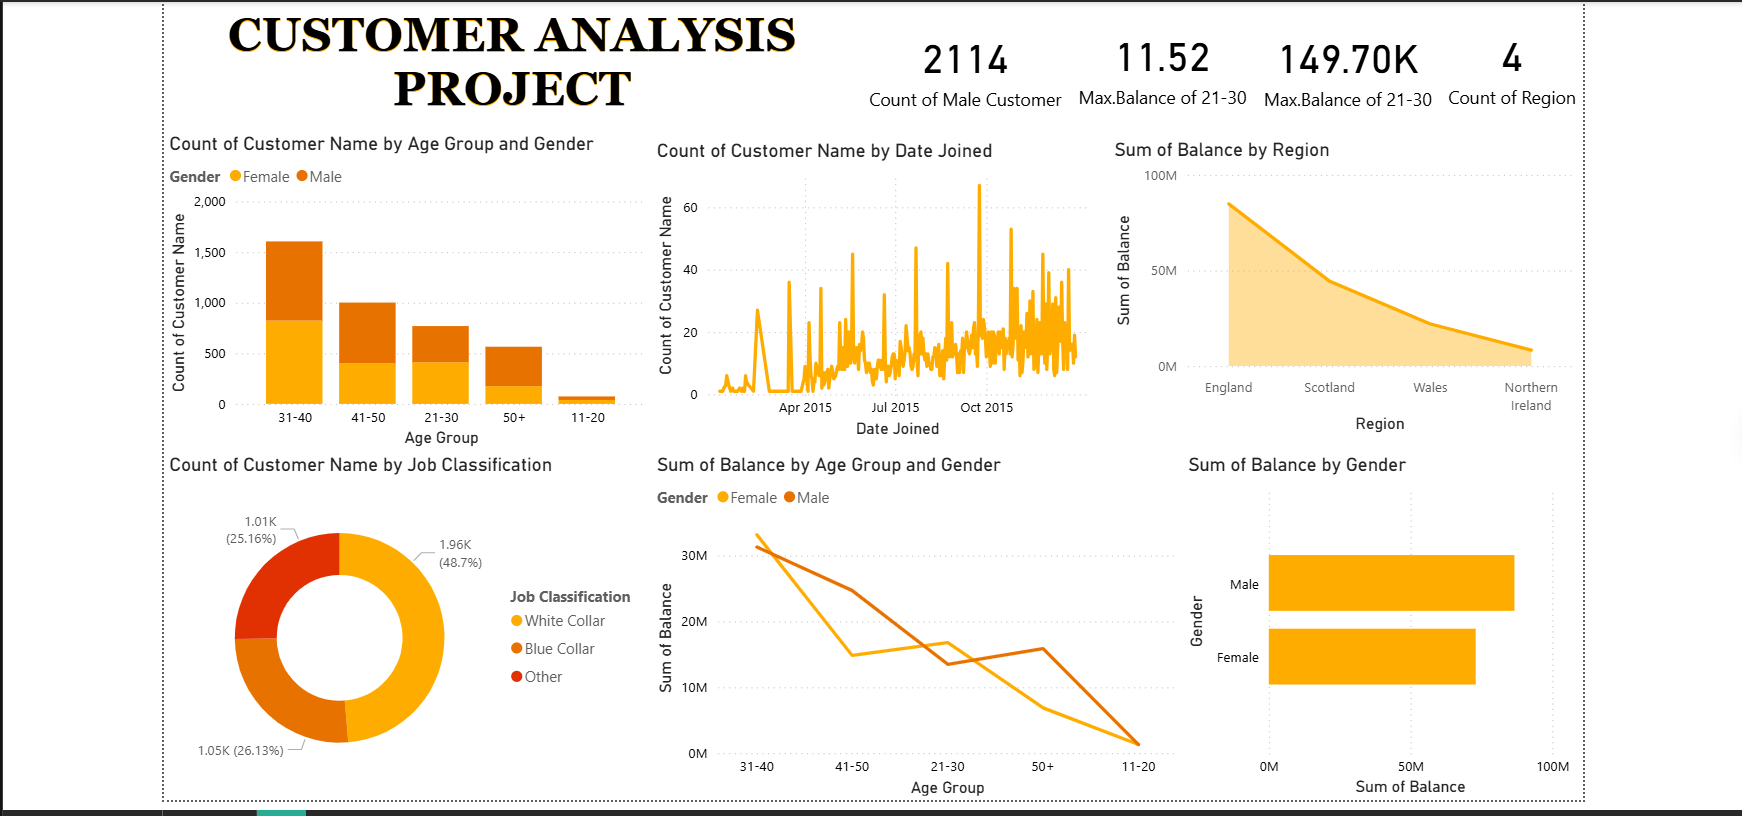

Layout of this report page (visuals, bound fields, positions):
{"tool":"powerbi","page":{"name":"Page 1","canvas":[1280,720],"ordinal":0},"visuals":[{"type":"lineChart","fields":{"Series":["P6-UK-Bank-Customers.Gender"],"Y":["Sum(P6-UK-Bank-Customers.Balance)"],"Category":["P6-UK-Bank-Customers.Age Group"]},"box":[440.1,406.5,478.7,314.1],"z":0},{"type":"columnChart","fields":{"Y":["CountNonNull(P6-UK-Bank-Customers.Customer Name)"],"Series":["P6-UK-Bank-Customers.Gender"],"Category":["P6-UK-Bank-Customers.Age Group"]},"box":[0,117.6,440.1,288.9],"z":1000},{"type":"card","fields":{"Values":["Count(P6-UK-Bank-Customers.Region)"]},"box":[1152.3,0,127.7,114.2],"z":2000},{"type":"donutChart","fields":{"Category":["P6-UK-Bank-Customers.Job Classification"],"Y":["CountNonNull(P6-UK-Bank-Customers.Customer Name)"]},"box":[0,406.5,440.1,314.1],"z":3000},{"type":"areaChart","fields":{"Y":["Sum(P6-UK-Bank-Customers.Balance)"],"Category":["P6-UK-Bank-Customers.Region"]},"box":[851.7,122.6,428.3,270.4],"z":4000},{"type":"barChart","fields":{"Category":["P6-UK-Bank-Customers.Gender"],"Y":["Sum(P6-UK-Bank-Customers.Balance)"]},"box":[918.8,406.5,354.4,314.1],"z":5000},{"type":"lineChart","fields":{"Y":["CountNonNull(P6-UK-Bank-Customers.Customer Name)"],"Category":["P6-UK-Bank-Customers.Date Joined"]},"box":[440.1,124.3,411.5,273.8],"z":6000},{"type":"card","fields":{"Values":["Max(P6-UK-Bank-Customers.Balance)"]},"box":[982.7,0,169.7,117.6],"z":7000},{"type":"card","fields":{"Values":["Min(P6-UK-Bank-Customers.Balance)"]},"box":[818.1,0,164.6,114.2],"z":8000},{"type":"card","fields":{"Values":["Count(P6-UK-Bank-Customers.Customer Name)"]},"box":[628.2,0,189.8,117.6],"z":9000},{"type":"textbox","box":[0,0,628.2,114.2],"z":10000},{"type":"textbox","box":[0,0,627.8,113.8],"z":11000}]}

Visuals, with their boxes on the page's 1280x720 design canvas (x1, y1, x2, y2). These are canvas units, not pixel positions in the 1742x816 screenshot, which may show the page scaled, cropped or inside an application window:
lineChart - P6-UK-Bank-Customers.Gender x Sum(P6-UK-Bank-Customers.Balance): x1=440 y1=406 x2=919 y2=721
columnChart - CountNonNull(P6-UK-Bank-Customers.Customer Name) x P6-UK-Bank-Customers.Gender: x1=0 y1=118 x2=440 y2=406
card - Count(P6-UK-Bank-Customers.Region): x1=1152 y1=0 x2=1280 y2=114
donutChart - P6-UK-Bank-Customers.Job Classification x CountNonNull(P6-UK-Bank-Customers.Customer Name): x1=0 y1=406 x2=440 y2=721
areaChart - Sum(P6-UK-Bank-Customers.Balance) x P6-UK-Bank-Customers.Region: x1=852 y1=123 x2=1280 y2=393
barChart - P6-UK-Bank-Customers.Gender x Sum(P6-UK-Bank-Customers.Balance): x1=919 y1=406 x2=1273 y2=721
lineChart - CountNonNull(P6-UK-Bank-Customers.Customer Name) x P6-UK-Bank-Customers.Date Joined: x1=440 y1=124 x2=852 y2=398
card - Max(P6-UK-Bank-Customers.Balance): x1=983 y1=0 x2=1152 y2=118
card - Min(P6-UK-Bank-Customers.Balance): x1=818 y1=0 x2=983 y2=114
card - Count(P6-UK-Bank-Customers.Customer Name): x1=628 y1=0 x2=818 y2=118
textbox: x1=0 y1=0 x2=628 y2=114
textbox: x1=0 y1=0 x2=628 y2=114
